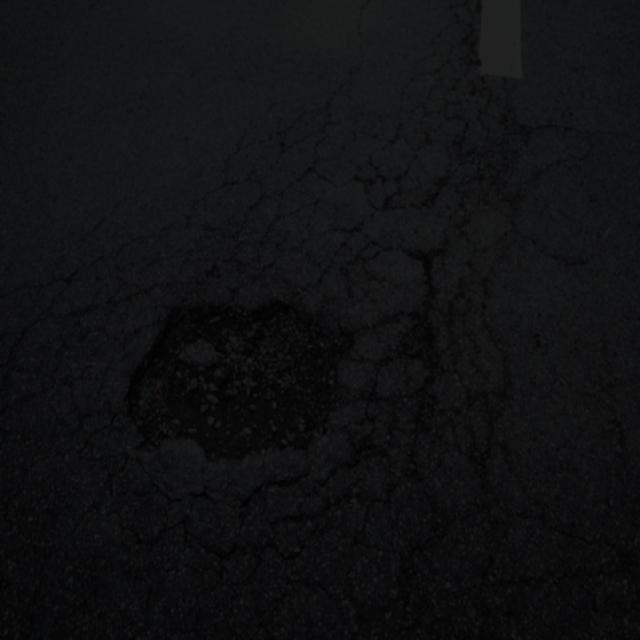pothole: (90, 229, 391, 490)
